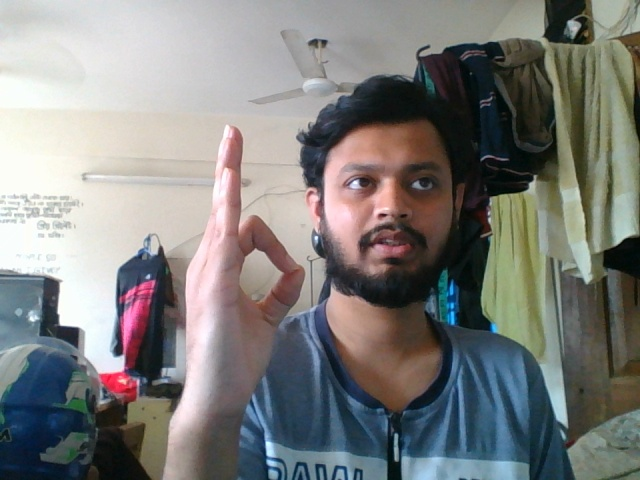ca: (169, 120, 317, 459)
